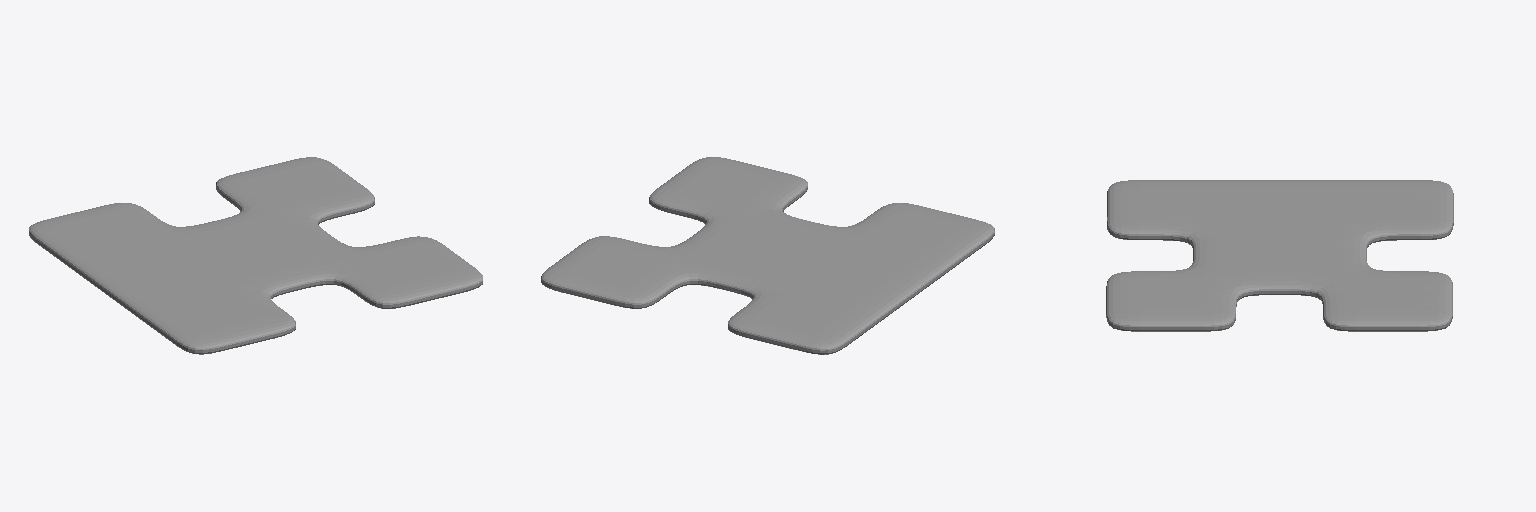
3 renders of one model, left to right at view 1: azimuth 30°, elevation 25°; view 2: azimuth 150°, elevation 25°; view 3: azimuth 270°, elevation 25°, orthographic.
Visible parts, largest first — view 1: Puzzle.016_Puzzle.016_GoldenEggMaterial; view 2: Puzzle.016_Puzzle.016_GoldenEggMaterial; view 3: Puzzle.016_Puzzle.016_GoldenEggMaterial.
Part boxes in pixels (x1,y1,x2,y2): Puzzle.016_Puzzle.016_GoldenEggMaterial: (29, 157, 482, 354); Puzzle.016_Puzzle.016_GoldenEggMaterial: (541, 157, 994, 354); Puzzle.016_Puzzle.016_GoldenEggMaterial: (1106, 180, 1453, 331).
Bounding box in the file's own units: 0.25 × 0.0092 × 0.2514.